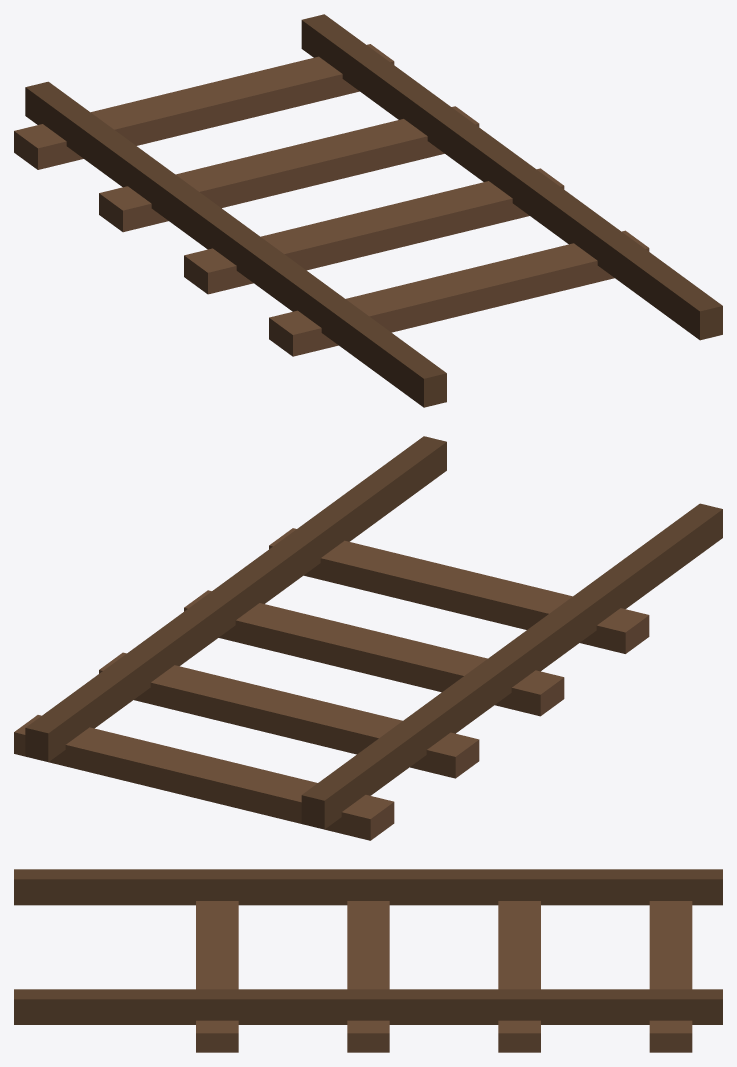
The model's file is rails.glb.
3 renders of one model, top to bottom at view 1: azimuth 30°, elevation 25°; view 2: azimuth 150°, elevation 25°; view 3: azimuth 270°, elevation 25°, orthographic. The views are drawn at different scales.
Parts seen in each view (by area): view 1: rails; view 2: rails; view 3: rails.
Boxes of the visible parts, bbox=[...] form: rails: bbox=[14, 14, 722, 407]; rails: bbox=[14, 436, 722, 840]; rails: bbox=[14, 869, 722, 1052].
Bounding box in the file's own units: 0.5167 × 0.0633 × 1.
